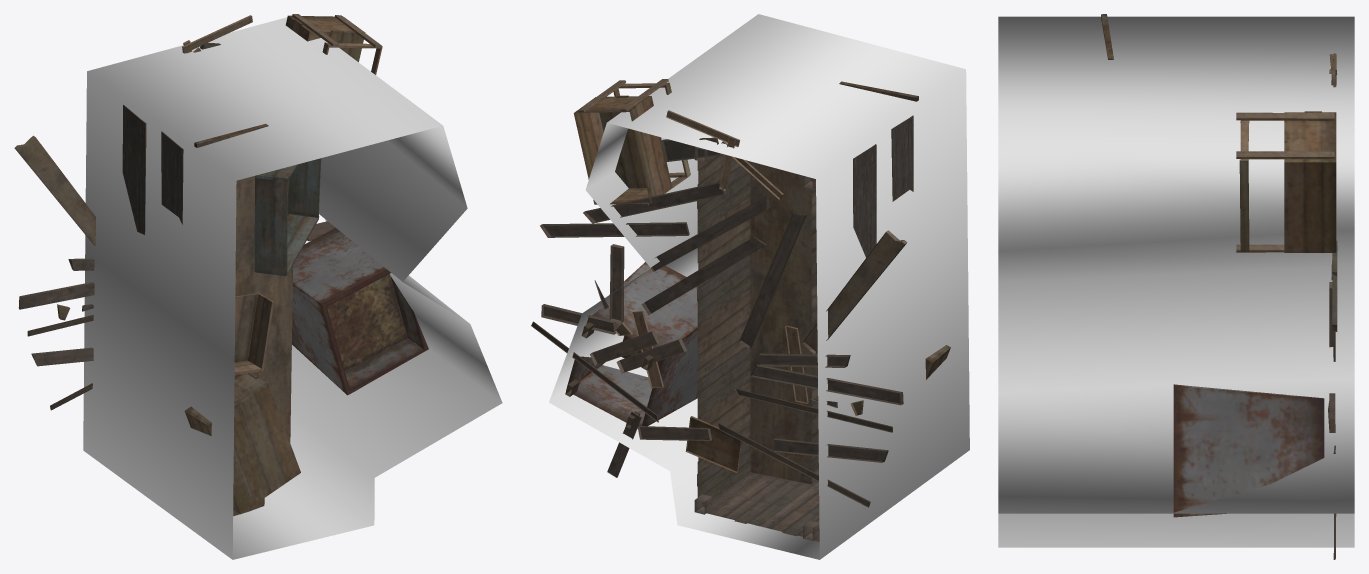
The model's file is hd_env052_TradeShelves_02.glb.
3 views of the same model, side by side, from view 1: azimuth 30°, elevation 25°; view 2: azimuth 150°, elevation 25°; view 3: azimuth 270°, elevation 25° (orthographic). The views are drawn at different scales.
Parts seen in each view (by area): view 1: set_0_group_1, set_0_group_2, set_0_group_0; view 2: set_0_group_1, set_0_group_2, set_0_group_0; view 3: set_0_group_1, set_0_group_2, set_0_group_0.
Boxes of the visible parts, x1,y1,x2,y2 form: set_0_group_1: (83,17,502,559); set_0_group_2: (122,14,428,515); set_0_group_0: (14,15,335,410); set_0_group_1: (549,14,969,559); set_0_group_2: (565,79,950,541); set_0_group_0: (531,110,907,507); set_0_group_1: (998,16,1354,547); set_0_group_2: (1101,14,1336,517); set_0_group_0: (1328,53,1337,559).
Bounding box in the file's own units: 3.05 × 3.17 × 2.12.
Materials: 3 (2 with a texture image).
